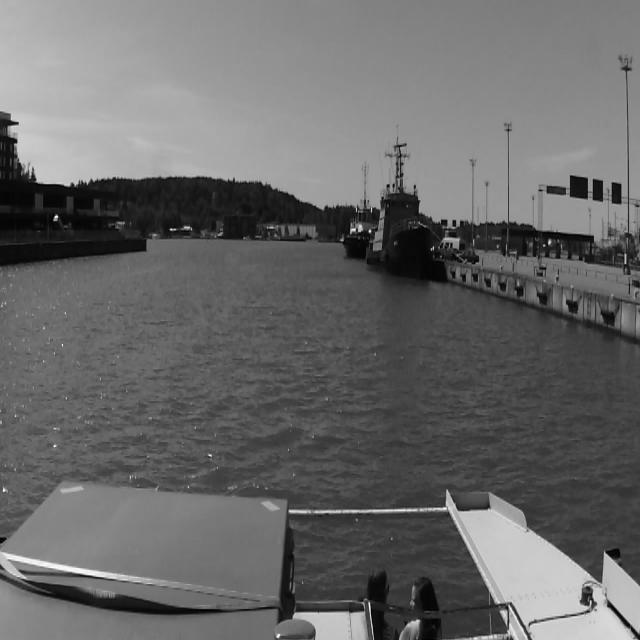ship: (367, 130, 437, 276), (343, 160, 365, 260)
